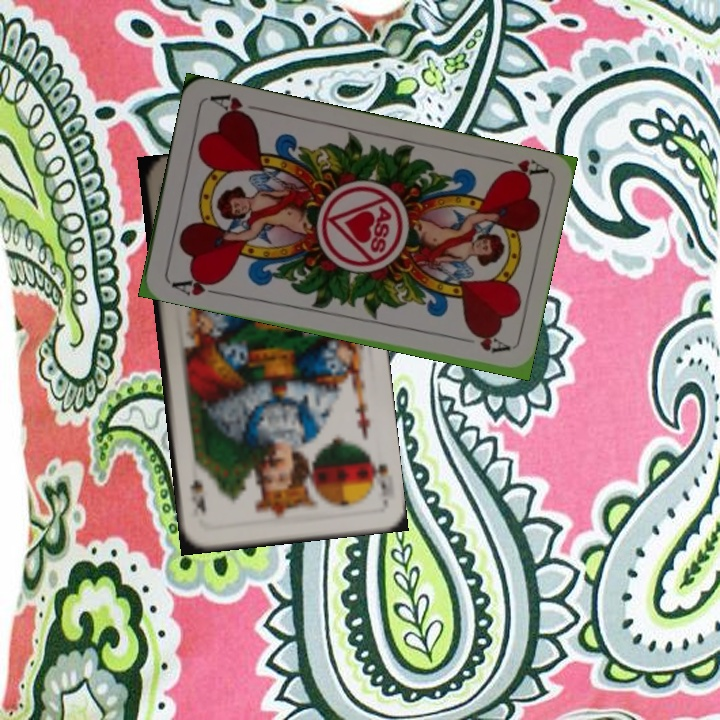HA: (490, 153, 548, 182), (167, 271, 225, 298)
SK: (364, 450, 391, 493)
